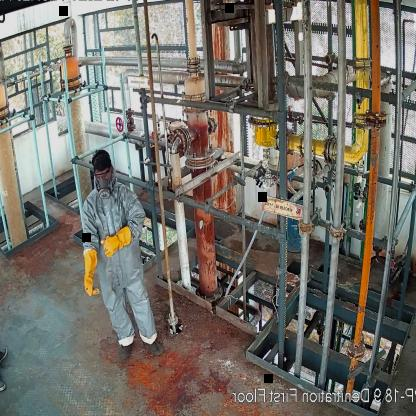goggles: (92, 169, 110, 180)
mask: (96, 177, 113, 200)
